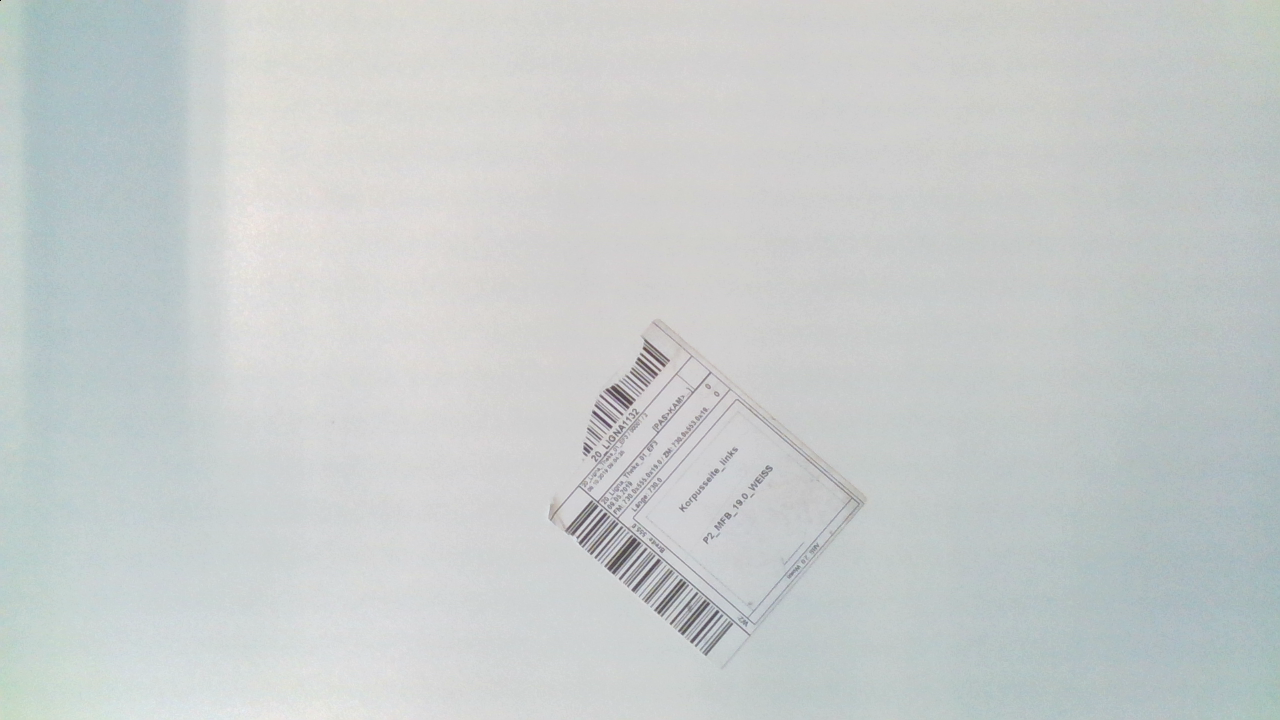barcode: (534, 310, 880, 677)
